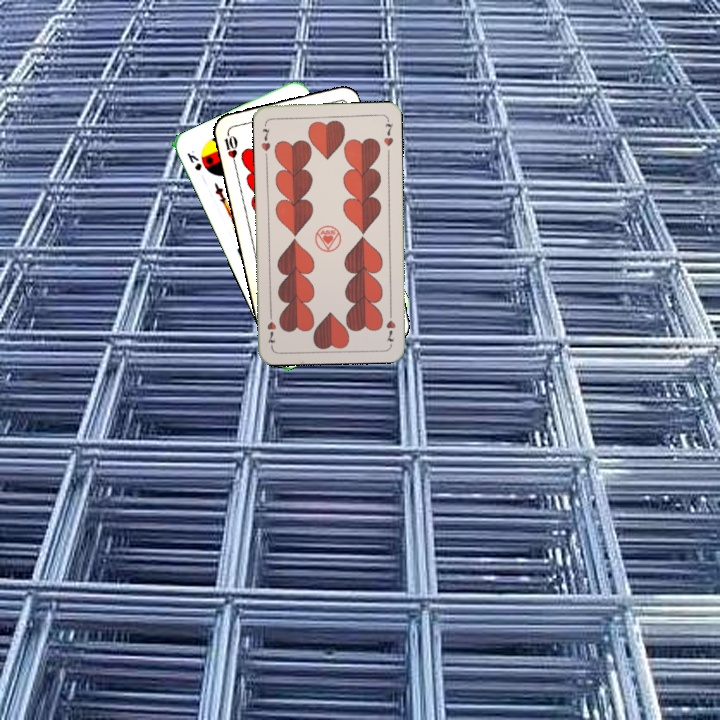H10: (220, 127, 240, 168)
H7: (382, 306, 398, 344), (257, 125, 273, 153)
SK: (183, 146, 204, 173)
